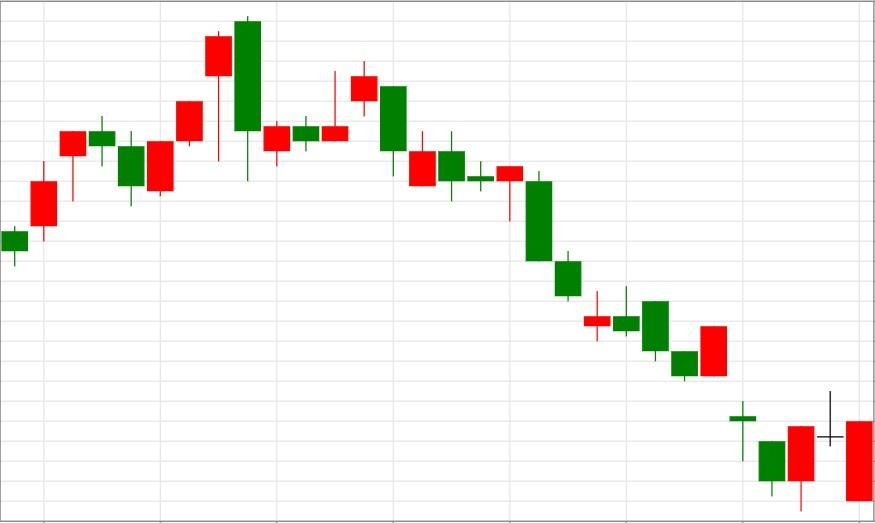bearish_engulfing_fall: (117, 15, 261, 207)
bullish_engulfing_rise: (350, 61, 816, 512)
